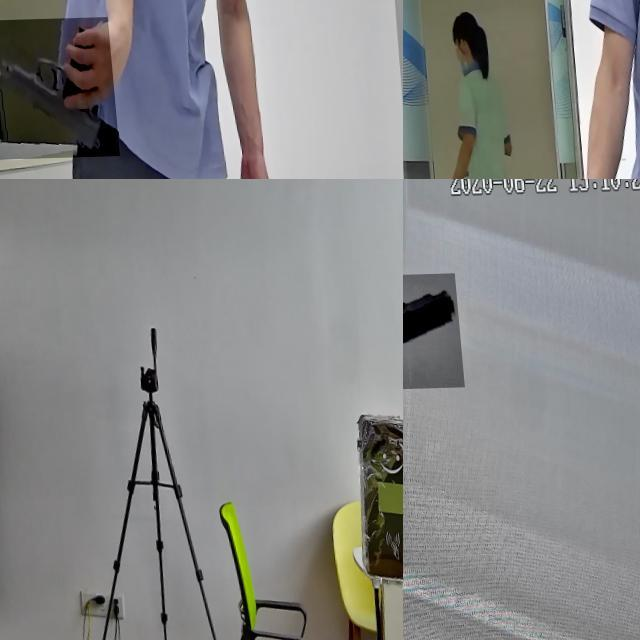gun-knife-thesis - v11 Yolov5 augmented: (0, 18, 112, 160), (403, 276, 478, 393), (0, 334, 20, 434)
